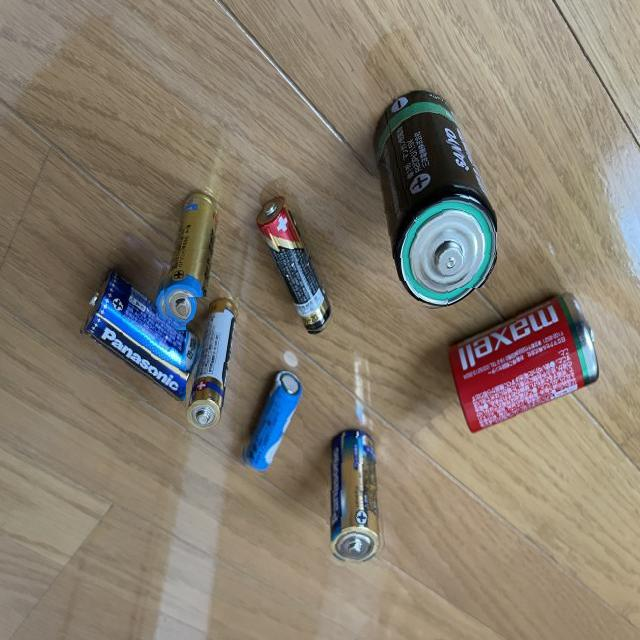battery: (370, 90, 498, 310), (448, 288, 604, 438), (78, 269, 204, 401), (256, 196, 334, 335), (326, 422, 388, 566), (156, 188, 220, 326), (186, 297, 239, 435), (240, 372, 303, 476)
